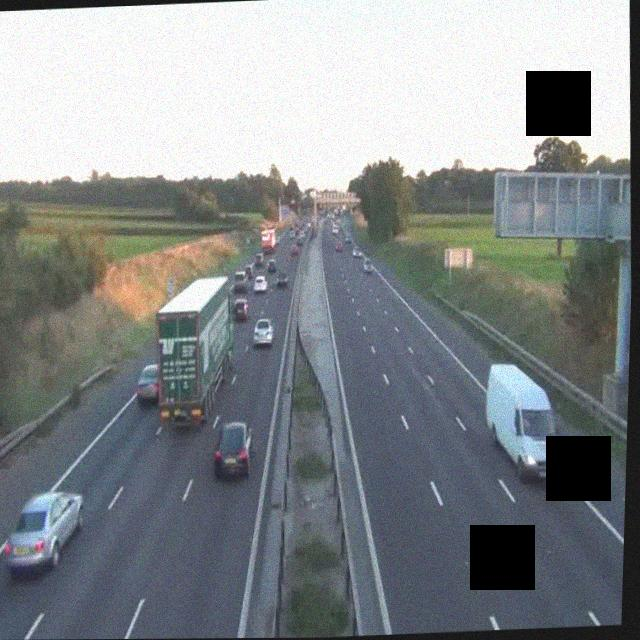car: (2, 490, 84, 575), (211, 420, 253, 477), (135, 364, 162, 403), (252, 316, 274, 346), (230, 294, 250, 321), (233, 273, 249, 293), (251, 273, 267, 292), (274, 270, 287, 287), (240, 263, 253, 279), (362, 256, 373, 273), (266, 257, 277, 272), (351, 245, 361, 257), (289, 242, 298, 255), (334, 238, 343, 251), (295, 232, 304, 244), (331, 225, 338, 235)
truck: (150, 274, 238, 426), (260, 226, 276, 255)
